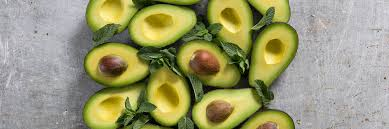aguacate: (185, 82, 273, 124), (81, 37, 157, 84)
